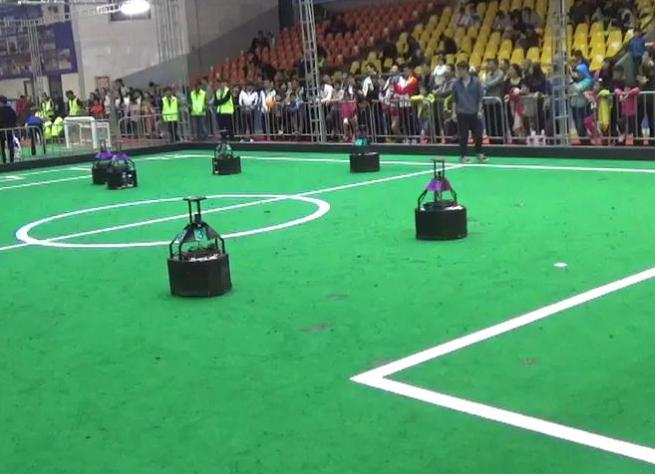robot: (160, 189, 235, 300), (412, 153, 471, 242)
